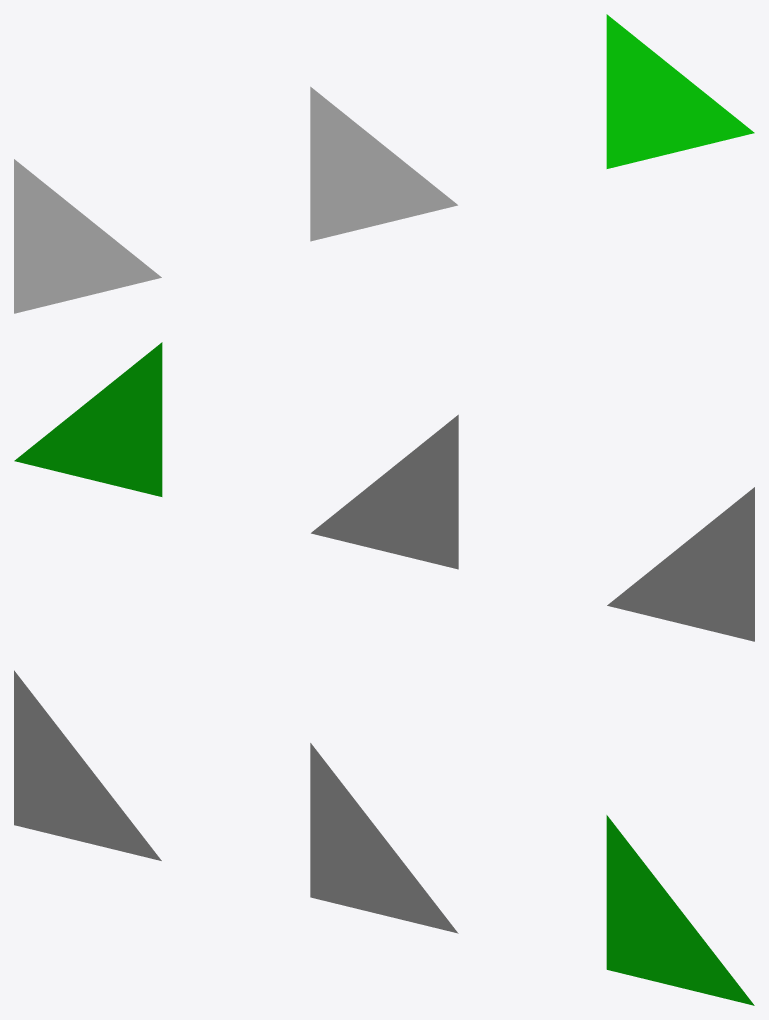
File: kit.gltf
The picture shows the model from 3 angles, top to bottom: view 1: azimuth 30°, elevation 25°; view 2: azimuth 150°, elevation 25°; view 3: azimuth 330°, elevation 25°; orthographic projection.
Parts seen in each view (by area): view 1: crate_c, crate_b, crate_a; view 2: crate_c, crate_b, crate_a; view 3: crate_c, crate_b, crate_a.
Boxes of the visible parts, x1=… form: crate_c: x1=606, y1=14, x2=754, y2=168; crate_b: x1=310, y1=86, x2=457, y2=241; crate_a: x1=14, y1=159, x2=161, y2=313; crate_c: x1=14, y1=342, x2=162, y2=496; crate_b: x1=311, y1=414, x2=458, y2=569; crate_a: x1=607, y1=487, x2=754, y2=641; crate_c: x1=606, y1=815, x2=754, y2=1005; crate_b: x1=310, y1=743, x2=458, y2=933; crate_a: x1=14, y1=670, x2=161, y2=860.
Size of the model in its own units: 5 by 1 by 0.
